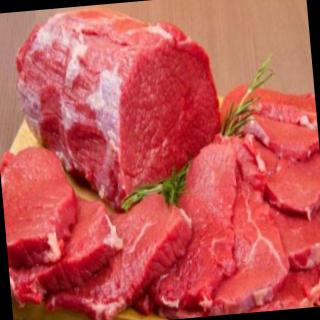Daging Sapi: (15, 1, 230, 201), (40, 185, 203, 320), (200, 166, 292, 313), (6, 198, 124, 311), (176, 144, 251, 310), (1, 146, 76, 269), (226, 79, 319, 138)
